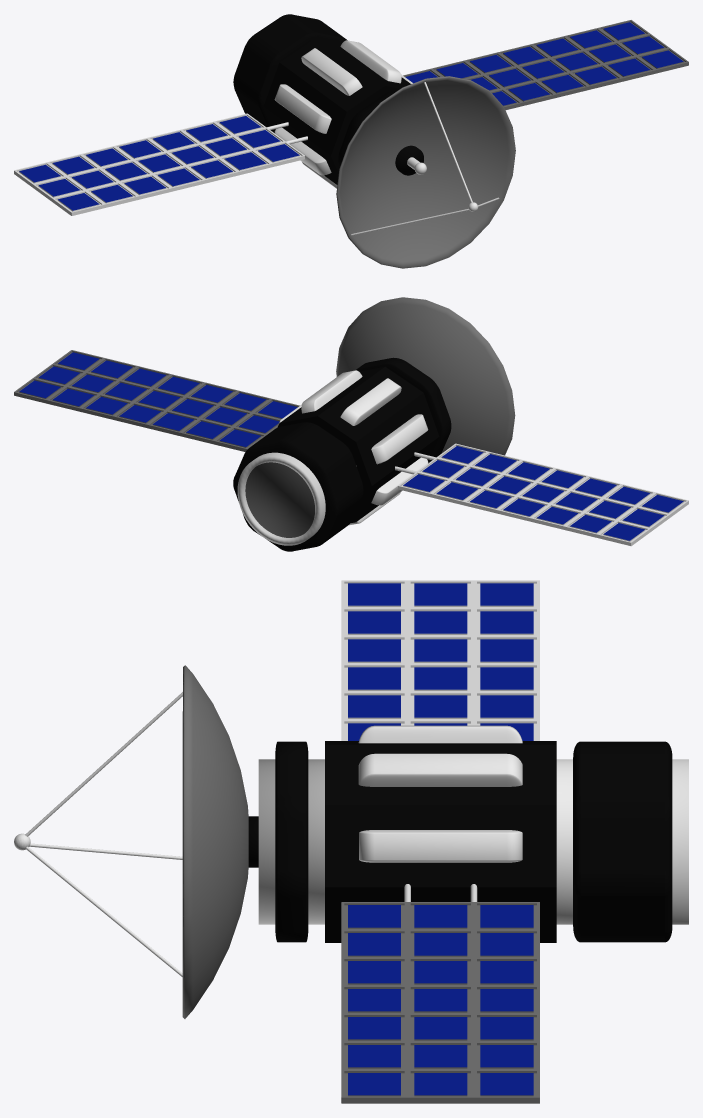
File: civ_sat_1_5.glb
3 views of the same model, one above another, from view 1: azimuth 30°, elevation 25°; view 2: azimuth 150°, elevation 25°; view 3: azimuth 270°, elevation 25° (orthographic). The views are drawn at different scales.
Parts seen in each view (by area): view 1: Cylinder.031; view 2: Cylinder.031; view 3: Cylinder.031.
Part boxes in pixels (<box>): Cylinder.031: <box>14,14,688,268</box>; Cylinder.031: <box>14,297,688,551</box>; Cylinder.031: <box>14,580,688,1103</box>.
Size of the model in its own units: 37 by 10.75 by 20.4.
